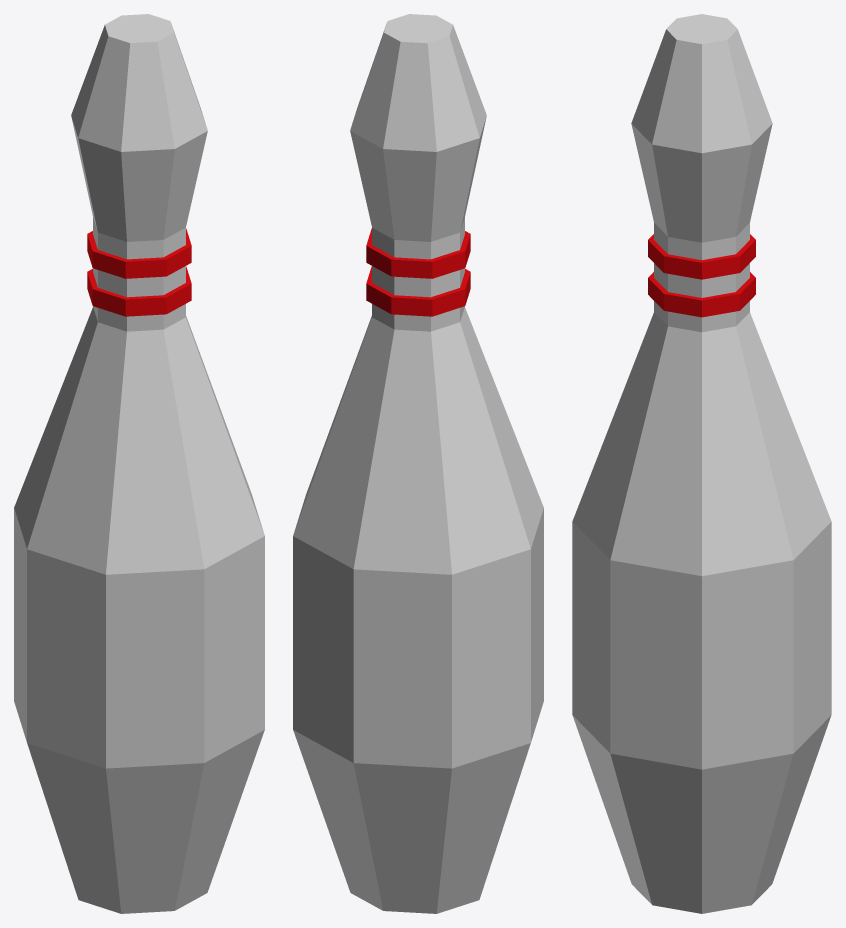
File: bowling_pin.fbx
3 views of the same model, side by side, from view 1: azimuth 30°, elevation 25°; view 2: azimuth 150°, elevation 25°; view 3: azimuth 270°, elevation 25° (orthographic).
Visible parts, largest first — view 1: Cylinder, Cylinder.001, Cylinder.002; view 2: Cylinder, Cylinder.001, Cylinder.002; view 3: Cylinder, Cylinder.002, Cylinder.001.
Boxes of the visible parts, x1=… form: Cylinder: x1=14, y1=14, x2=264, y2=913; Cylinder.001: x1=87, y1=266, x2=191, y2=316; Cylinder.002: x1=87, y1=228, x2=191, y2=278; Cylinder: x1=293, y1=14, x2=543, y2=913; Cylinder.001: x1=366, y1=266, x2=470, y2=316; Cylinder.002: x1=366, y1=228, x2=470, y2=278; Cylinder: x1=572, y1=14, x2=831, y2=913; Cylinder.002: x1=648, y1=234, x2=755, y2=279; Cylinder.001: x1=648, y1=272, x2=755, y2=317.
Bounding box in the file's own units: 200 × 728 × 200.
